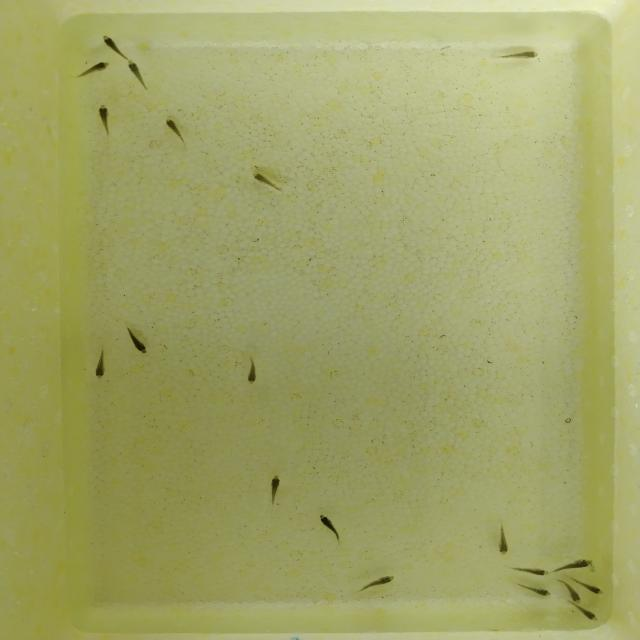fingerling: (123, 59, 158, 95), (90, 101, 120, 142), (350, 572, 401, 596), (315, 512, 348, 549), (244, 170, 290, 196), (160, 116, 193, 152), (120, 323, 152, 357), (70, 60, 114, 82), (492, 47, 542, 63), (554, 556, 596, 574), (94, 32, 125, 55), (90, 347, 110, 382), (264, 473, 284, 508), (242, 355, 262, 388), (495, 522, 512, 559), (578, 576, 609, 596), (516, 583, 554, 599), (508, 564, 552, 577), (572, 605, 601, 623), (561, 581, 581, 604)
